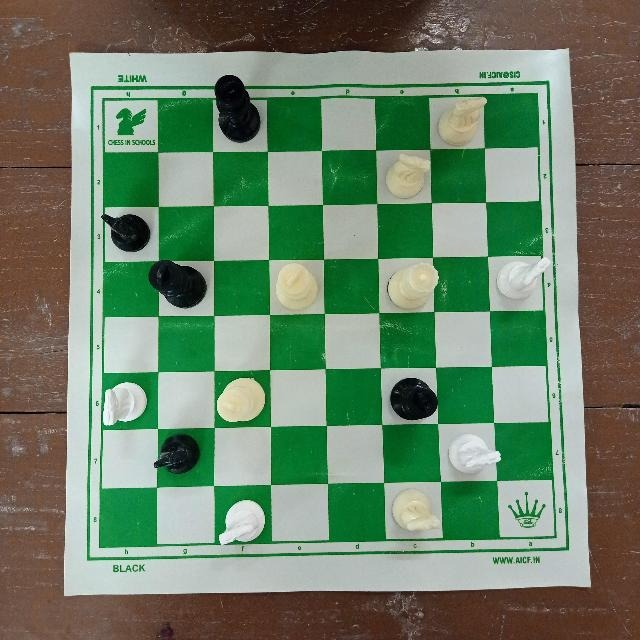black-king: (207, 68, 264, 146), (144, 257, 208, 313), (383, 367, 442, 423)
black-knight: (94, 205, 151, 254), (146, 432, 205, 476)
white-king: (212, 370, 274, 428), (272, 261, 324, 313)
white-knight: (442, 425, 504, 479), (384, 486, 445, 540), (489, 254, 553, 304), (436, 93, 491, 149), (216, 494, 268, 549), (98, 377, 150, 428), (381, 151, 433, 200)
white-queen: (383, 258, 441, 311)
